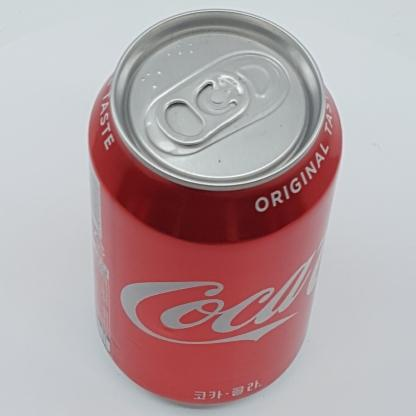---------350ML: (87, 8, 343, 405)
